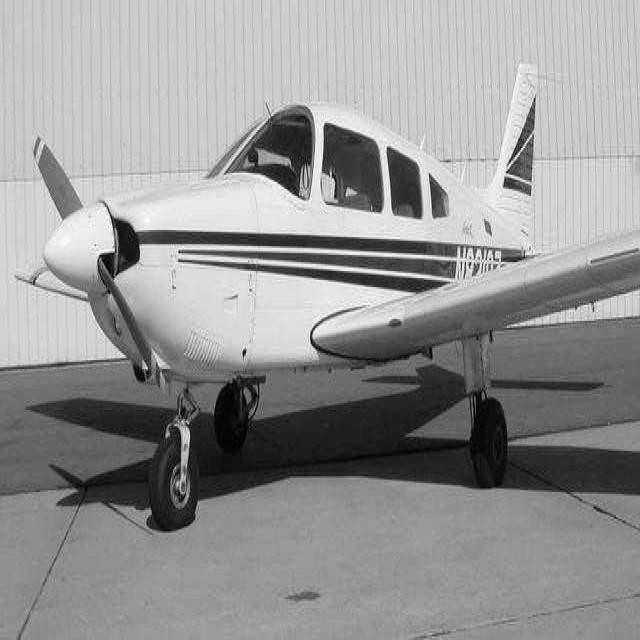Aircraft: (19, 82, 640, 496)
